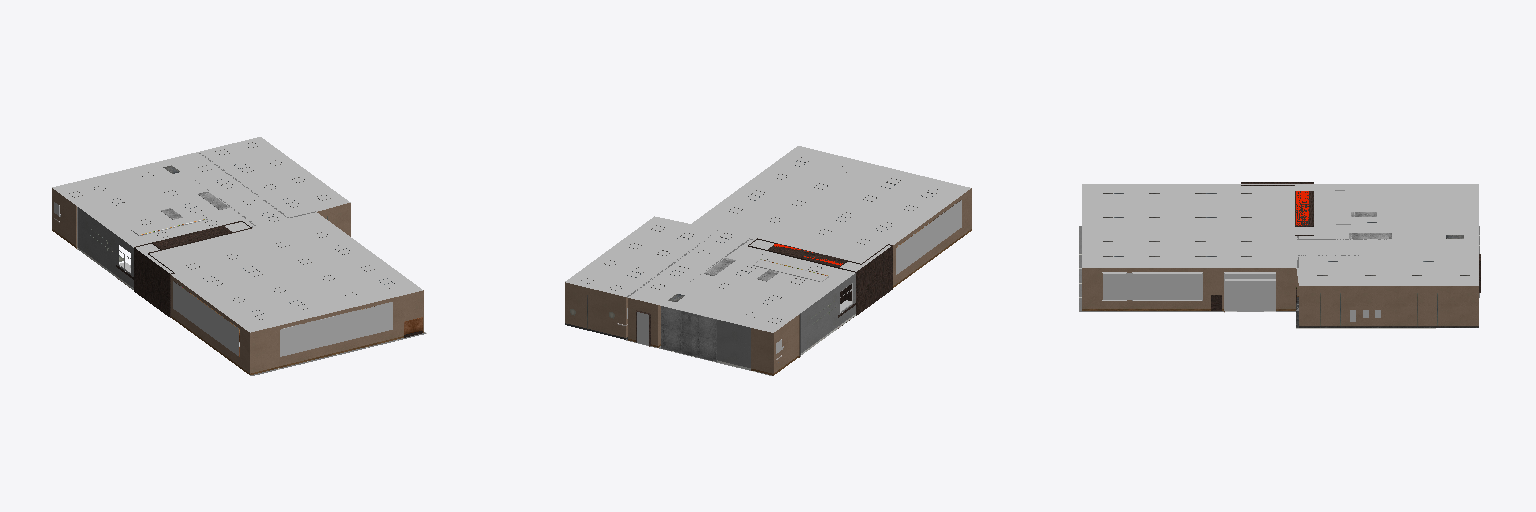
3 views of the same model, side by side, from view 1: azimuth 30°, elevation 25°; view 2: azimuth 150°, elevation 25°; view 3: azimuth 270°, elevation 25° (orthographic).
Visible parts, largest first — view 1: BurgerPiz_Roof_tiles_0; view 2: BurgerPiz_Roof_tiles_0; view 3: BurgerPiz_Roof_tiles_0.
Boxes of the visible parts, x1=… form: BurgerPiz_Roof_tiles_0: x1=52, y1=137, x2=426, y2=375; BurgerPiz_Roof_tiles_0: x1=565, y1=146, x2=971, y2=375; BurgerPiz_Roof_tiles_0: x1=1079, y1=182, x2=1480, y2=328.
Size of the model in its own units: 17.9 by 3.6 by 29.33.
50 materials, 39 textured.